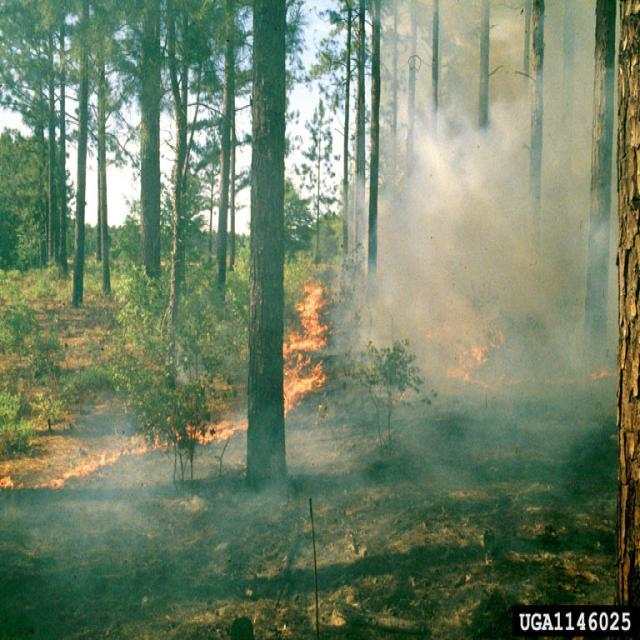Fire: (0, 414, 249, 492), (282, 274, 330, 419)
